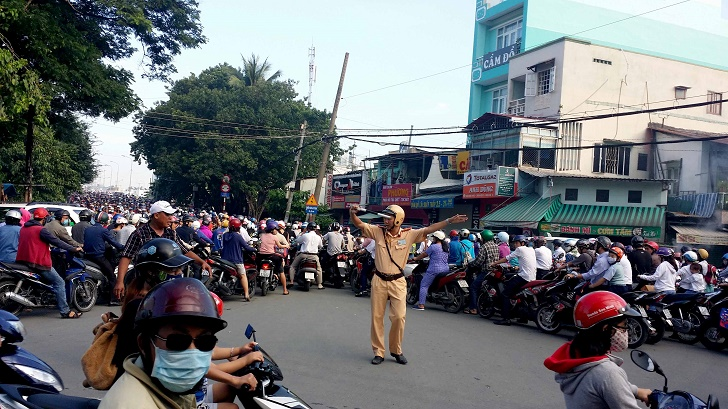police: (337, 193, 476, 372)
